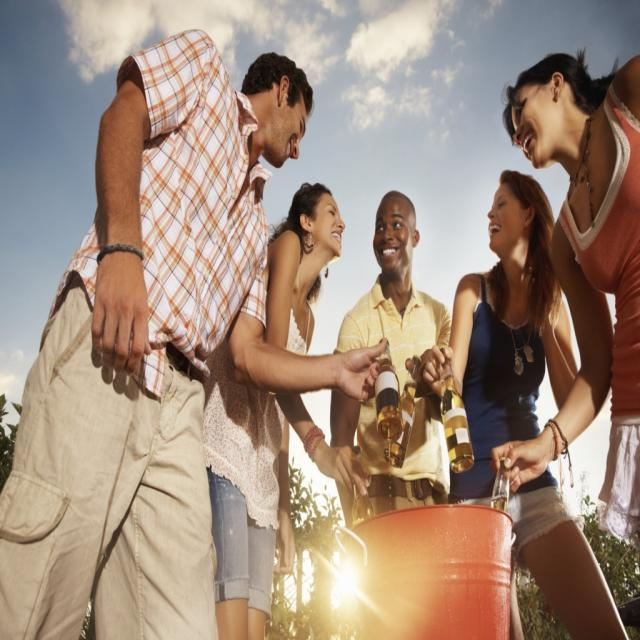body: (0, 22, 406, 639), (418, 162, 640, 639), (200, 180, 372, 640), (488, 45, 640, 548), (332, 187, 457, 516)
